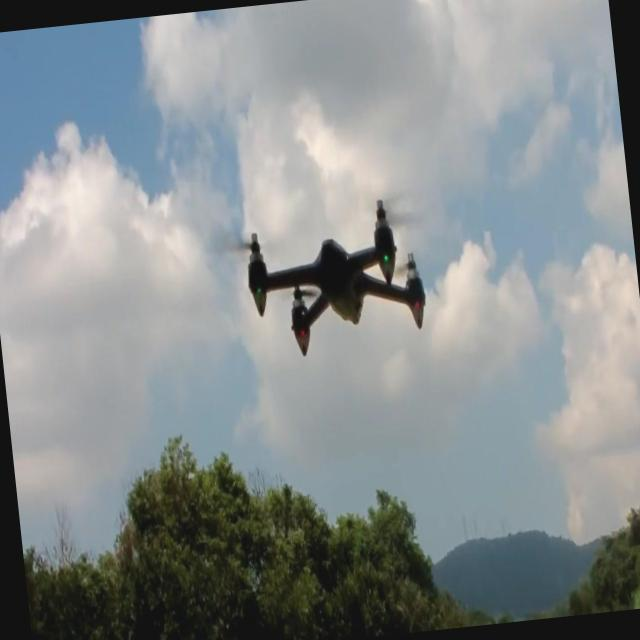drone: (239, 192, 432, 364)
